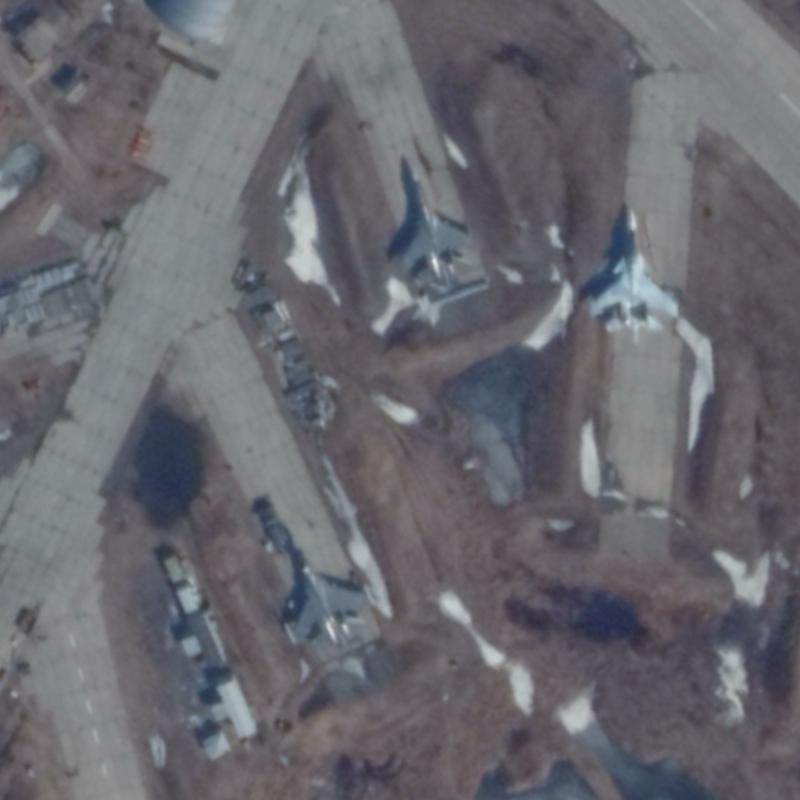A1: (278, 543, 377, 649), (397, 164, 472, 284)
A19: (587, 204, 681, 344)
